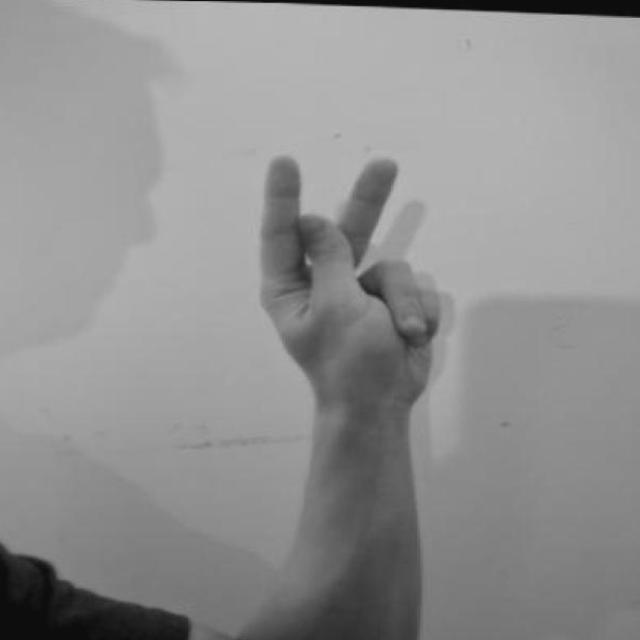K: (253, 134, 451, 422)
